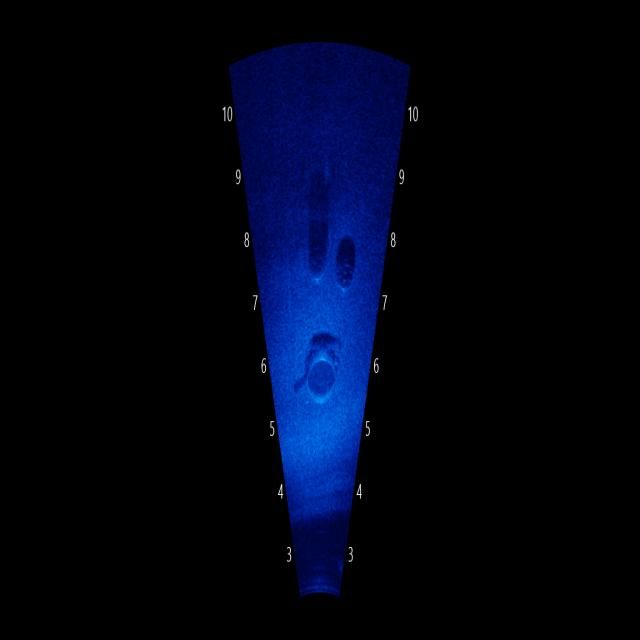circle: (298, 336, 344, 418), (298, 214, 336, 300), (335, 246, 357, 311)
